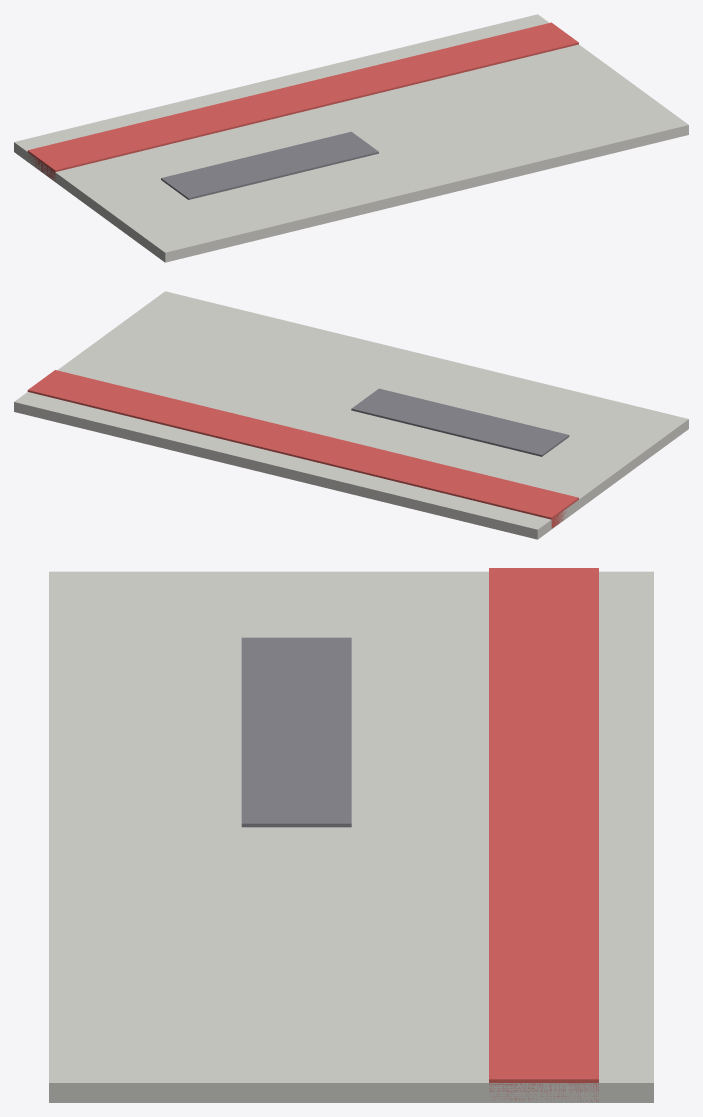
The model's file is envelope.fbx.
The picture shows the model from 3 angles, top to bottom: view 1: azimuth 30°, elevation 25°; view 2: azimuth 150°, elevation 25°; view 3: azimuth 270°, elevation 25°; orthographic projection. The views are drawn at different scales.
Visible parts, largest first — view 1: envelope; view 2: envelope; view 3: envelope.
Boxes of the visible parts, x1,y1,x2,y2 form: envelope: [14, 14, 688, 262]; envelope: [14, 291, 688, 539]; envelope: [49, 568, 653, 1102].
Bounding box in the file's own units: 0.22 × 0.00475 × 0.11.
